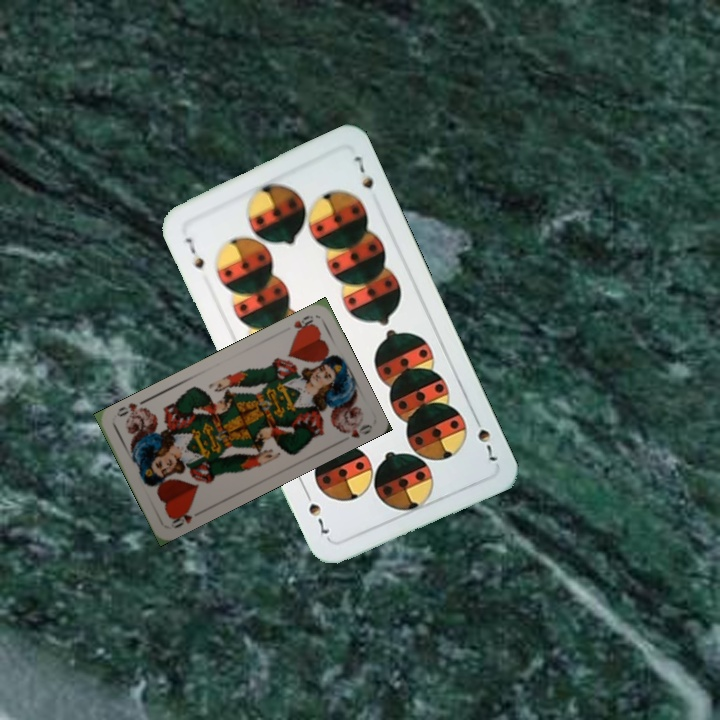HO: (167, 504, 205, 531), (289, 311, 317, 339)
S7: (469, 410, 501, 464), (181, 234, 207, 276)
